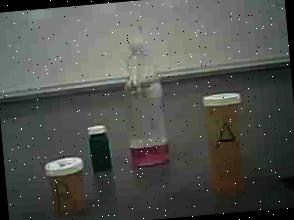Bottle A: (202, 91, 252, 202)
Bottle B: (42, 154, 92, 220)
Bottle C: (86, 122, 121, 176)
hazard: (118, 15, 177, 173)
